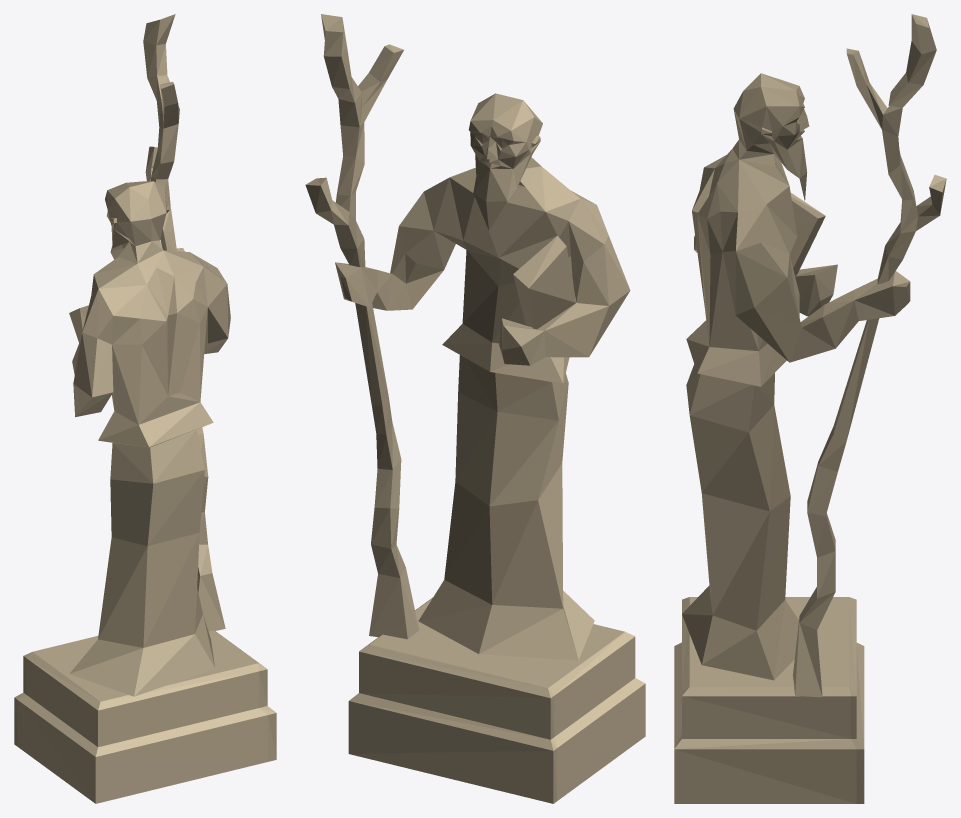
Rendered from dstatue2.fbx.
3 views of the same model, side by side, from view 1: azimuth 30°, elevation 25°; view 2: azimuth 150°, elevation 25°; view 3: azimuth 270°, elevation 25° (orthographic). The views are drawn at different scales.
Visible parts, largest first — view 1: Object Statue 2024-03-15_18-58-29; view 2: Object Statue 2024-03-15_18-58-29; view 3: Object Statue 2024-03-15_18-58-29.
Boxes of the visible parts, left/top/right/bottom form: Object Statue 2024-03-15_18-58-29: left=14, top=14, right=276, bottom=803; Object Statue 2024-03-15_18-58-29: left=305, top=14, right=645, bottom=803; Object Statue 2024-03-15_18-58-29: left=674, top=14, right=946, bottom=803.
Bounding box in the file's own units: 22800 × 78500 × 24800.
